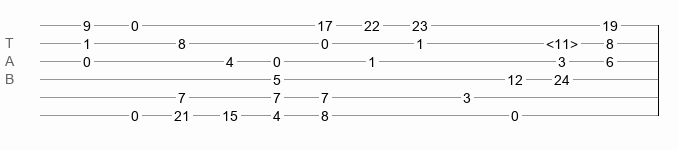0: (83, 54, 91, 64), (131, 18, 139, 28), (131, 108, 139, 118), (273, 54, 281, 64), (321, 36, 329, 46), (511, 108, 519, 118)
1: (83, 36, 91, 46), (368, 54, 376, 64), (416, 36, 424, 46)
12: (507, 72, 523, 82)
15: (222, 108, 238, 118)
17: (317, 18, 333, 28)
19: (602, 18, 618, 28)
21: (174, 108, 190, 118)
22: (364, 18, 380, 28)
23: (412, 18, 428, 28)
24: (554, 72, 570, 82)
3: (463, 90, 471, 100), (558, 54, 566, 64)
4: (226, 54, 234, 64), (273, 108, 281, 118)
5: (273, 72, 281, 82)
6: (606, 54, 614, 64)
7: (178, 90, 186, 100), (273, 90, 281, 100), (321, 90, 329, 100)
8: (178, 36, 186, 46), (321, 108, 329, 118), (606, 36, 614, 46)
9: (83, 18, 91, 28)
harmonic: (546, 36, 578, 46)
